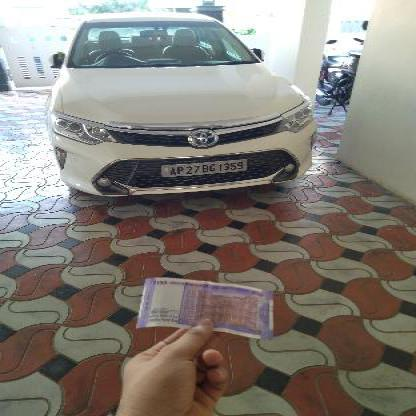New100Back: (142, 277, 278, 337)
